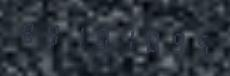eight: (41, 14, 64, 52), (17, 13, 40, 50)
five: (185, 24, 208, 62)
nine: (161, 23, 184, 60)
one: (65, 16, 88, 54), (113, 19, 136, 57)
zero: (137, 21, 160, 59), (89, 18, 112, 55)
